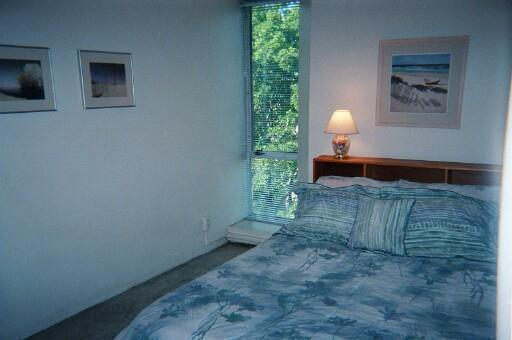Cama: (122, 157, 511, 337)
Ventana: (244, 9, 297, 220)
